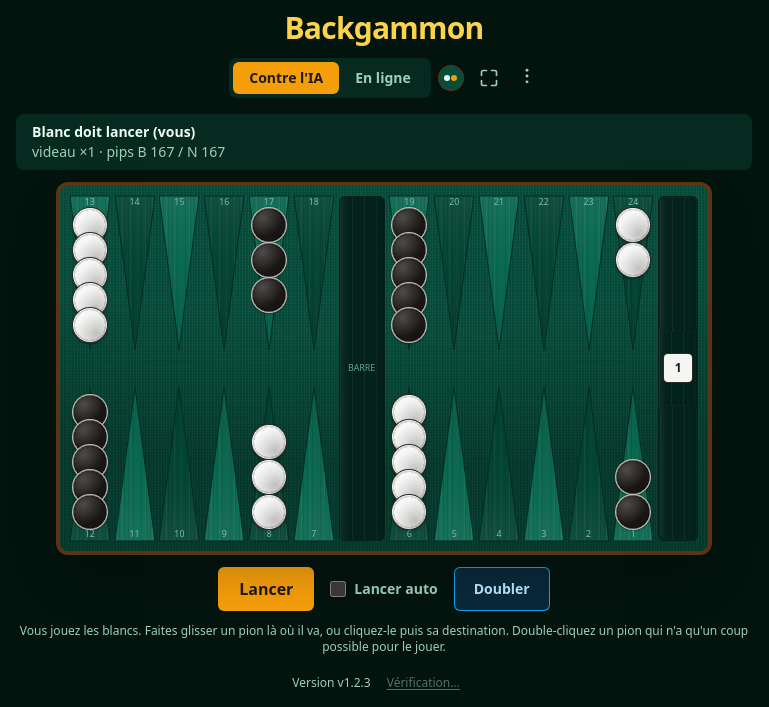
Scenario: App › switches between playing the AI and playing online
Click the button "En ligne".
click(383, 78)  # box x1=339 y1=62 x2=427 y2=94
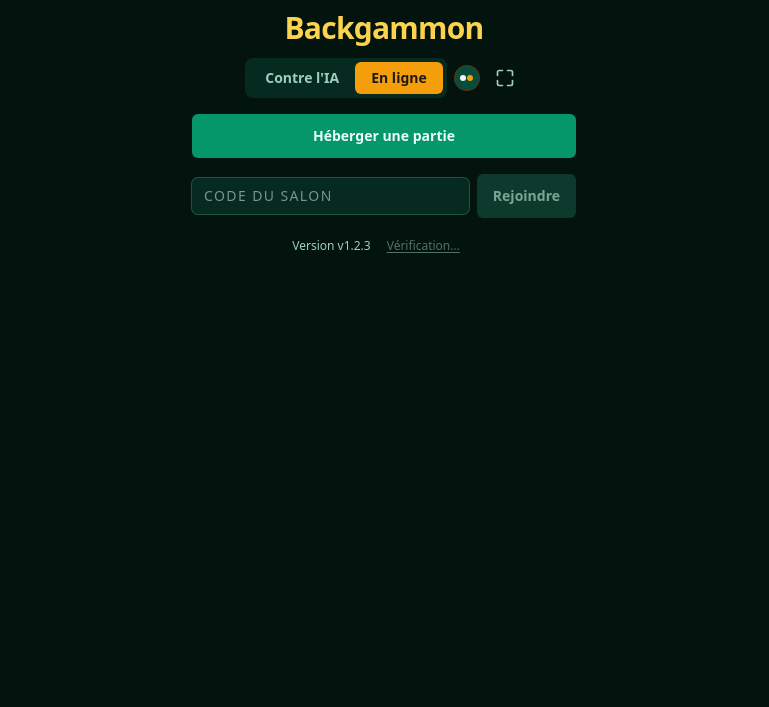
Expected: the field labelled "Code du salon" is shown, x1=192 y1=178 x2=469 y2=214
Expected: the button "Lancer" is gone
Click the button "Contre l'IA".
click(302, 78)  # box x1=249 y1=62 x2=355 y2=94
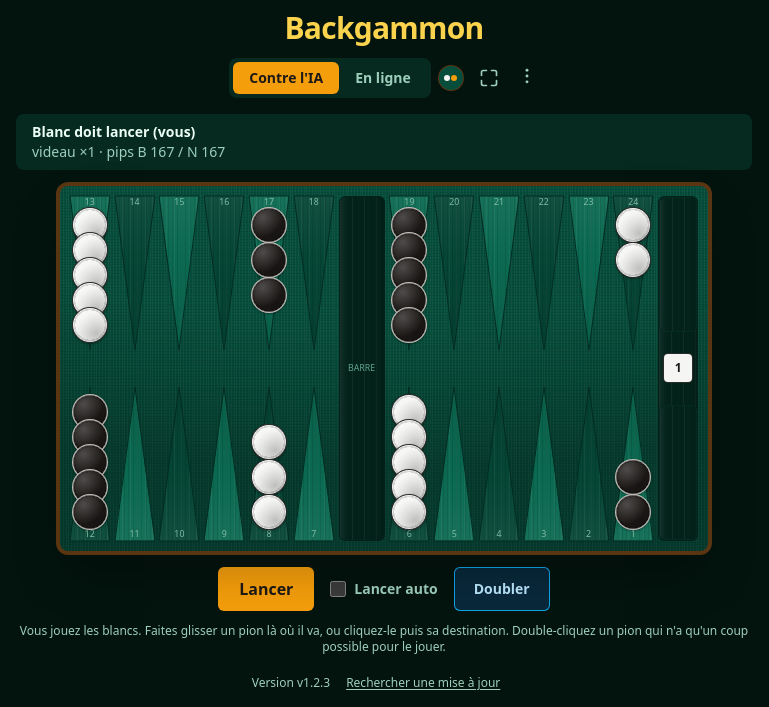
Expected: the number of buttons labelled "13" is 24
